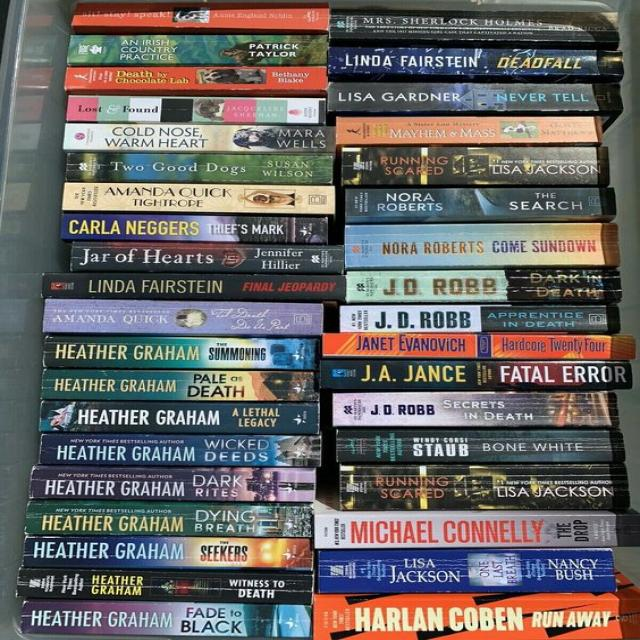book: (314, 596, 639, 640), (340, 465, 629, 510), (320, 551, 613, 592), (345, 224, 620, 266), (17, 568, 313, 604), (21, 602, 312, 638), (343, 147, 610, 185), (44, 299, 322, 335), (31, 467, 314, 502), (26, 503, 312, 537), (315, 515, 616, 547), (24, 539, 312, 572), (40, 401, 319, 435), (333, 393, 618, 426), (321, 360, 633, 389), (70, 240, 344, 273), (40, 434, 319, 466), (43, 337, 319, 369), (331, 12, 621, 42), (336, 431, 625, 461), (42, 370, 320, 401), (328, 83, 624, 112), (328, 47, 623, 76), (65, 152, 332, 184), (64, 183, 336, 213), (43, 273, 344, 300), (66, 35, 327, 65), (323, 333, 635, 358), (347, 272, 622, 300), (63, 124, 337, 152), (346, 188, 615, 216), (61, 214, 328, 242), (337, 116, 604, 144), (66, 96, 326, 124), (340, 306, 619, 332), (72, 3, 329, 30), (64, 66, 327, 90)
